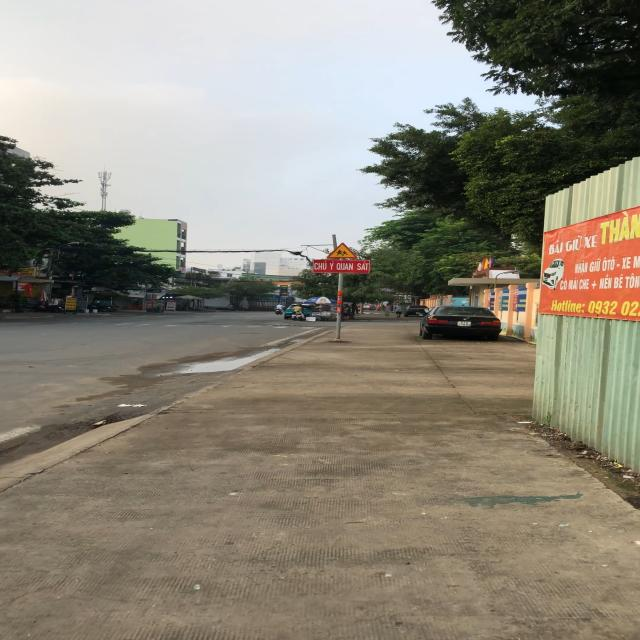Bien bao tre em: (325, 241, 359, 259)
